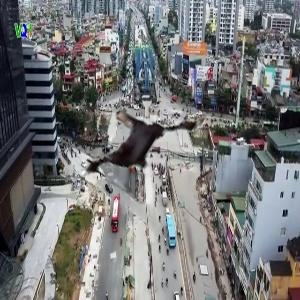drone: (57, 66, 214, 223)
